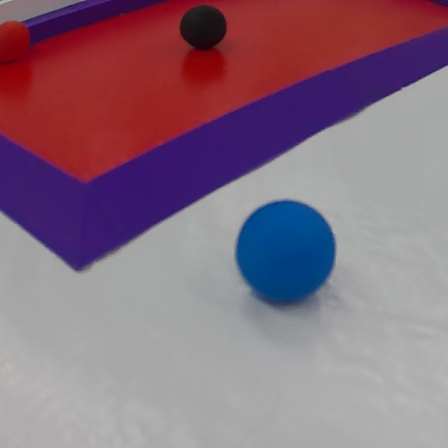black: (175, 3, 232, 52)
blue: (229, 199, 345, 308)
red: (0, 17, 36, 66)
red_aim: (3, 0, 448, 275)
